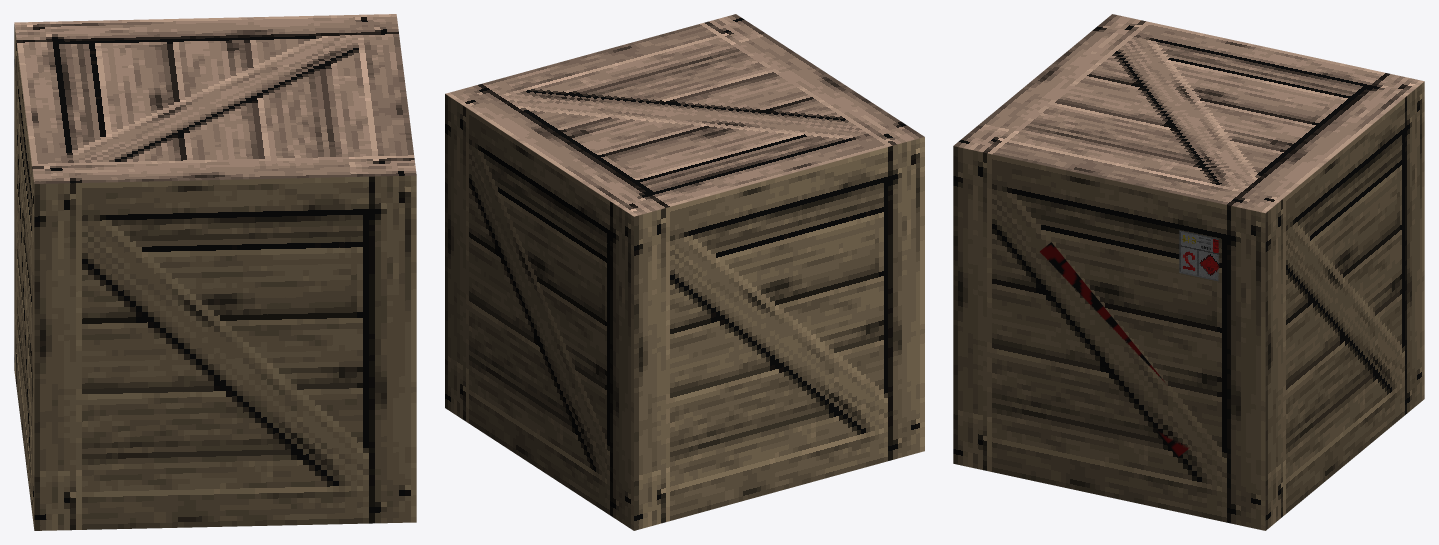
Rendered from primary_110.glb.
3 views of the same model, side by side, from view 1: azimuth 30°, elevation 25°; view 2: azimuth 150°, elevation 25°; view 3: azimuth 270°, elevation 25° (orthographic). The views are drawn at different scales.
Parts seen in each view (by area): view 1: Object; view 2: Object; view 3: Object.
Part boxes in pixels (box(x1,y1,x2,y2)): Object: box(14, 14, 416, 530); Object: box(445, 14, 924, 530); Object: box(953, 14, 1424, 530).
Size of the model in its own units: 1.28 by 0.9499 by 1.28.
7 materials, 7 textured.
